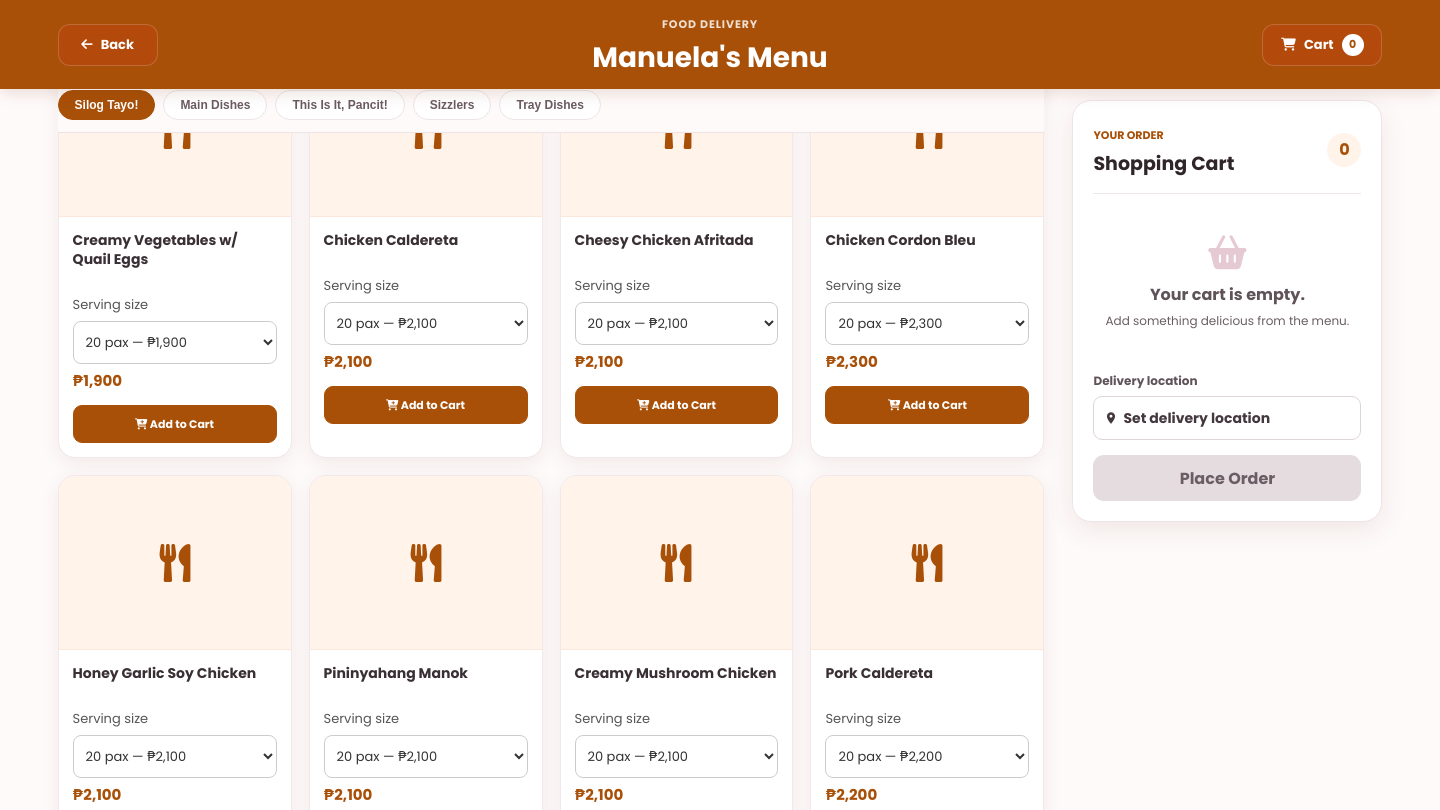
renders its first menu page and keeps serving sizes separate in the cart
(page scrolled)
Click the button "Add to Cart" below "Chicken Caldereta" at (426, 405), box [324,386,528,424]
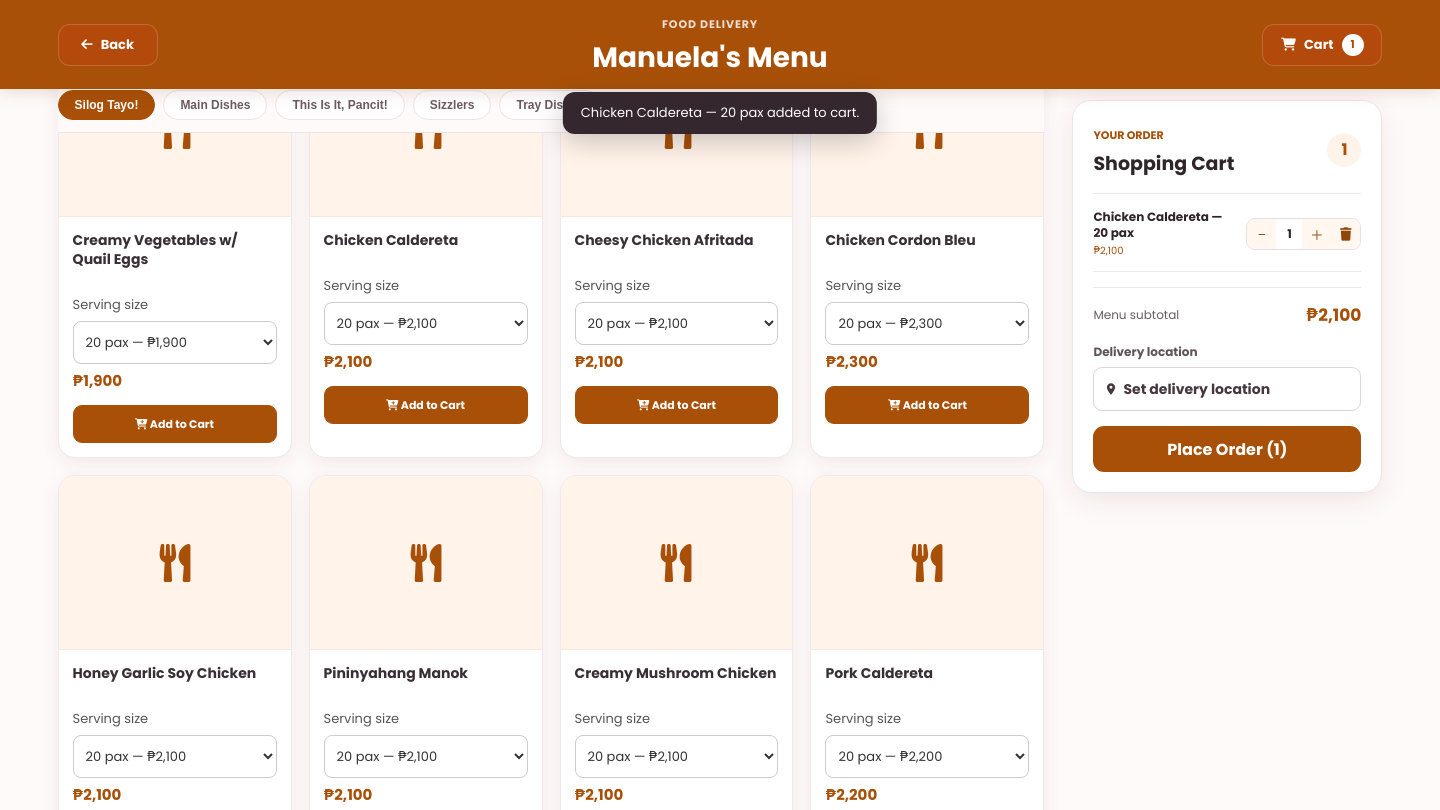
Select "30 pax — ₱3,100" in the 1st dropdown labelled "Serving size" at (426, 324), box [324,302,528,345]
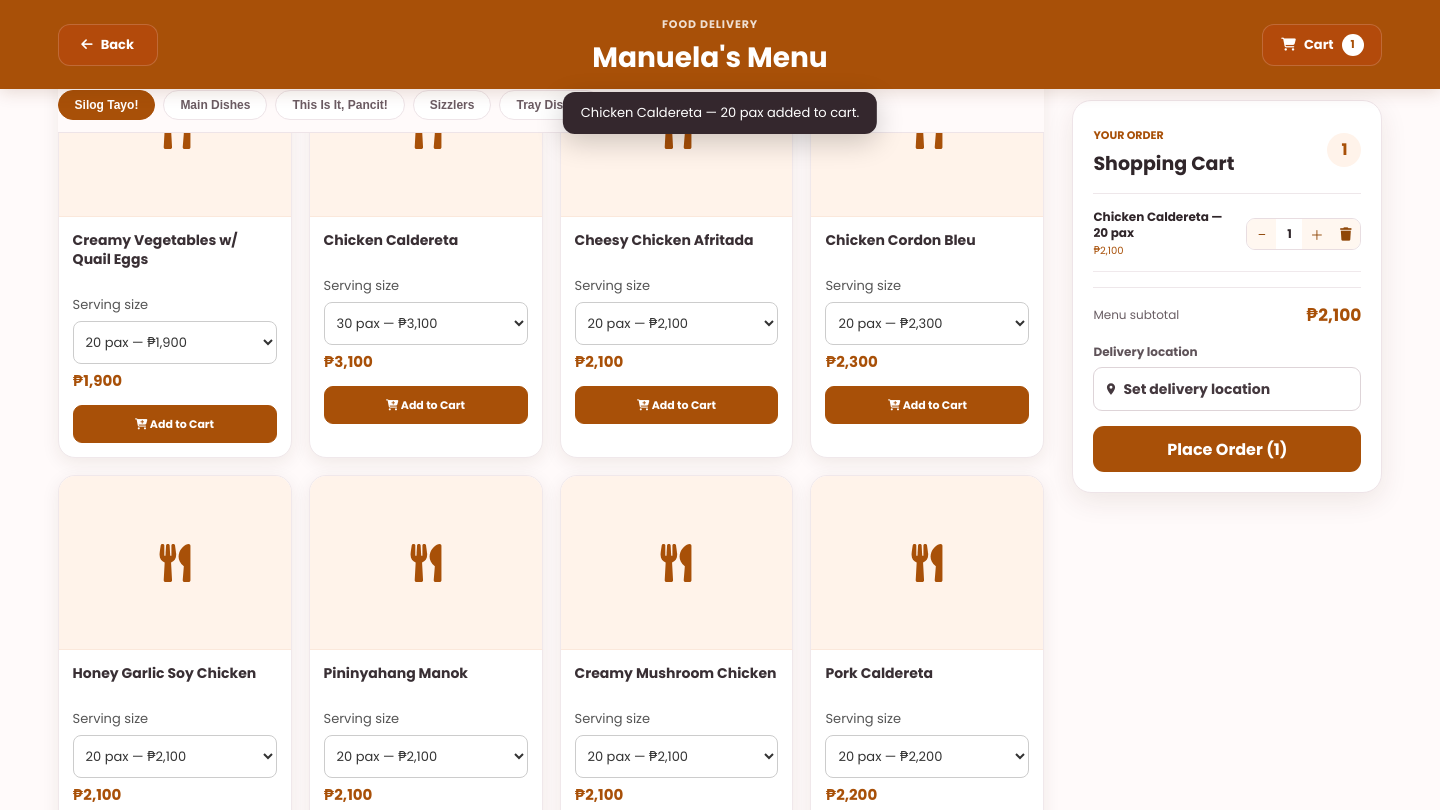
Click the button "Add to Cart" below "₱3,100" at (426, 405), box [324,386,528,424]
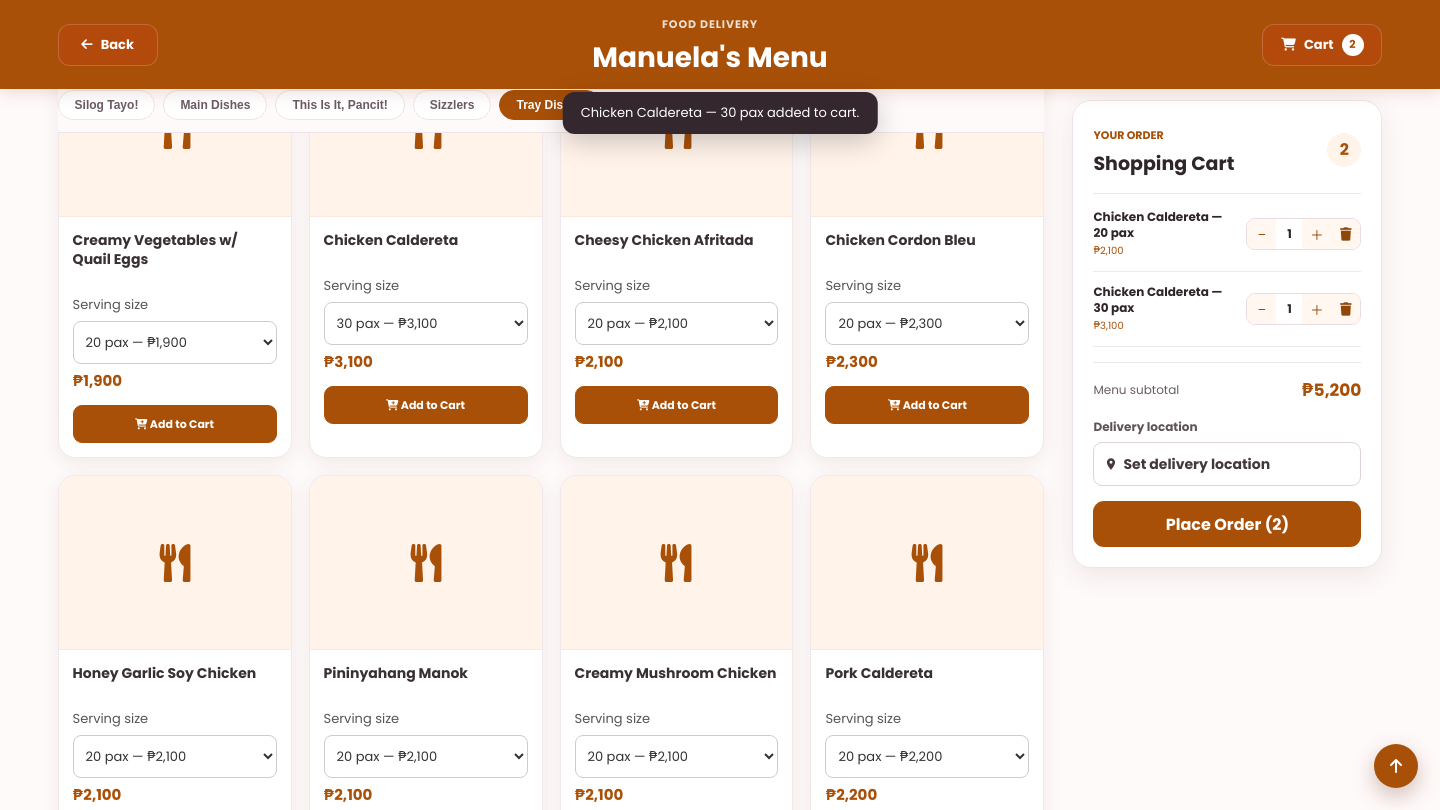
Expected: the text "Chicken Caldereta — 20 pax" is shown, [1093,209,1236,240]
Expected: the text "Chicken Caldereta — 30 pax" is shown, [1093,284,1236,315]
Expected: the text "₱5,200" is shown, [1301,377,1361,403]
